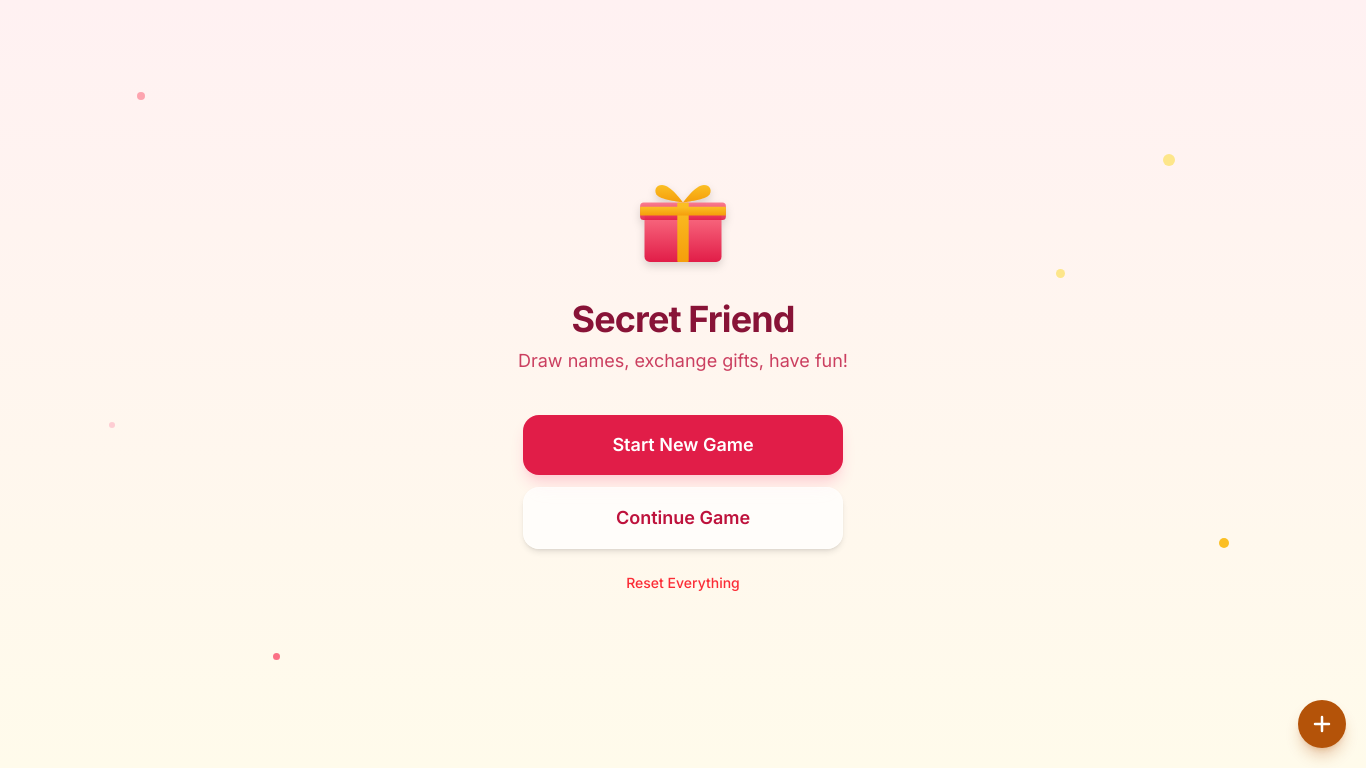
Test: App › restores saved game on "Continue Game"
Click the button "Continue Game": (683,518) [523,487,843,549]
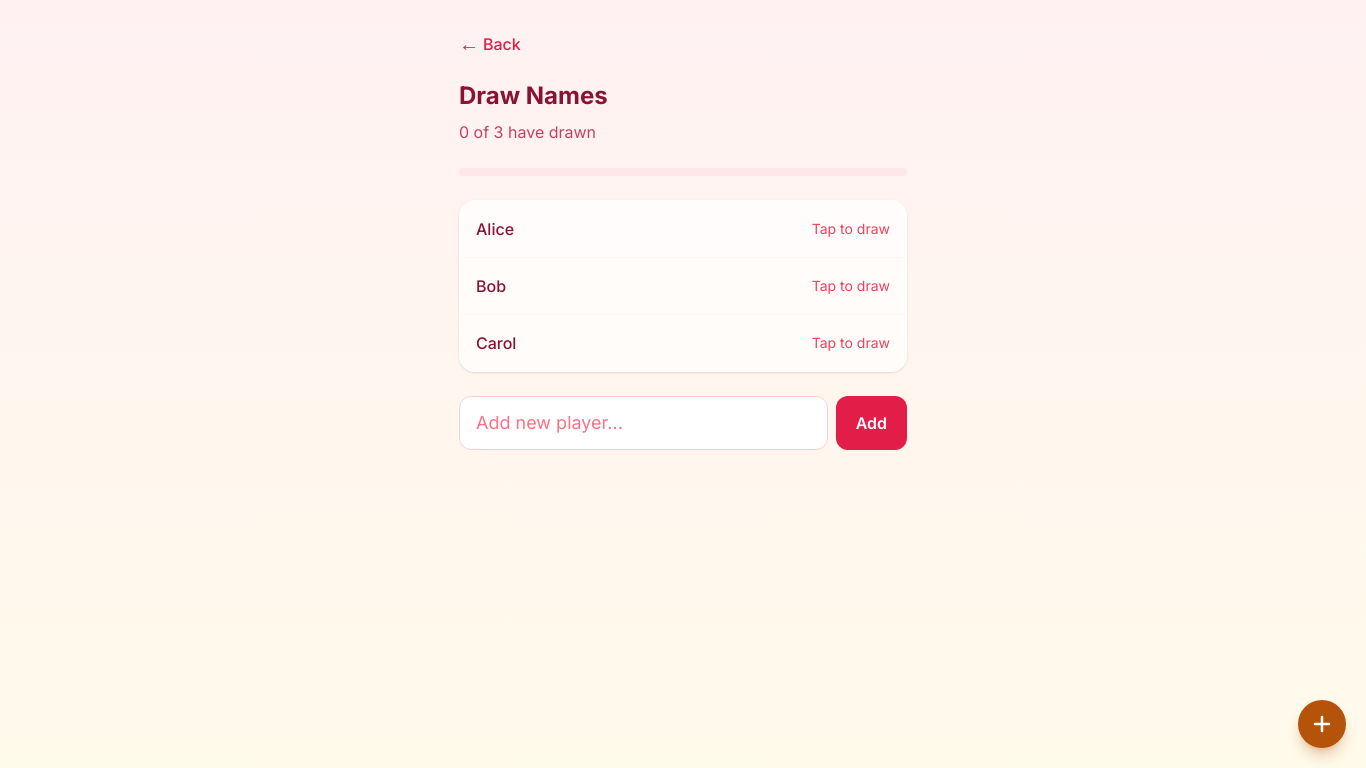
Check: the heading "Draw Names" is shown, box [459,81,608,110]
Check: the text "Alice" is shown, box [476,217,514,241]
